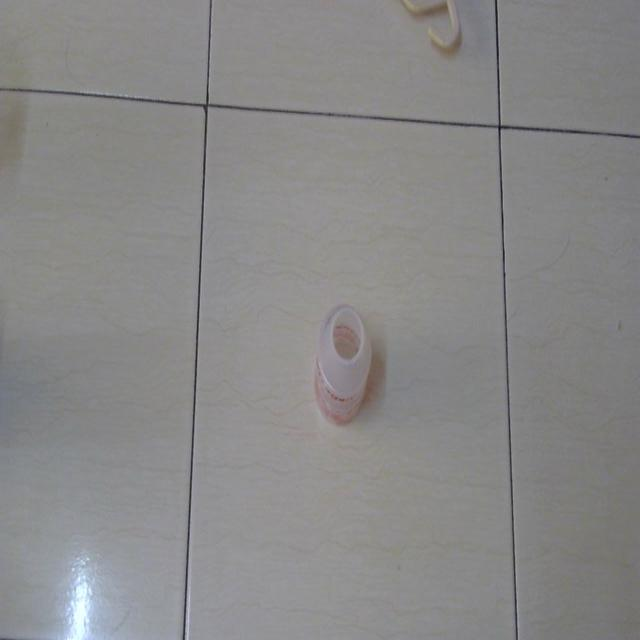plastic_standrotation: (311, 298, 384, 432)
